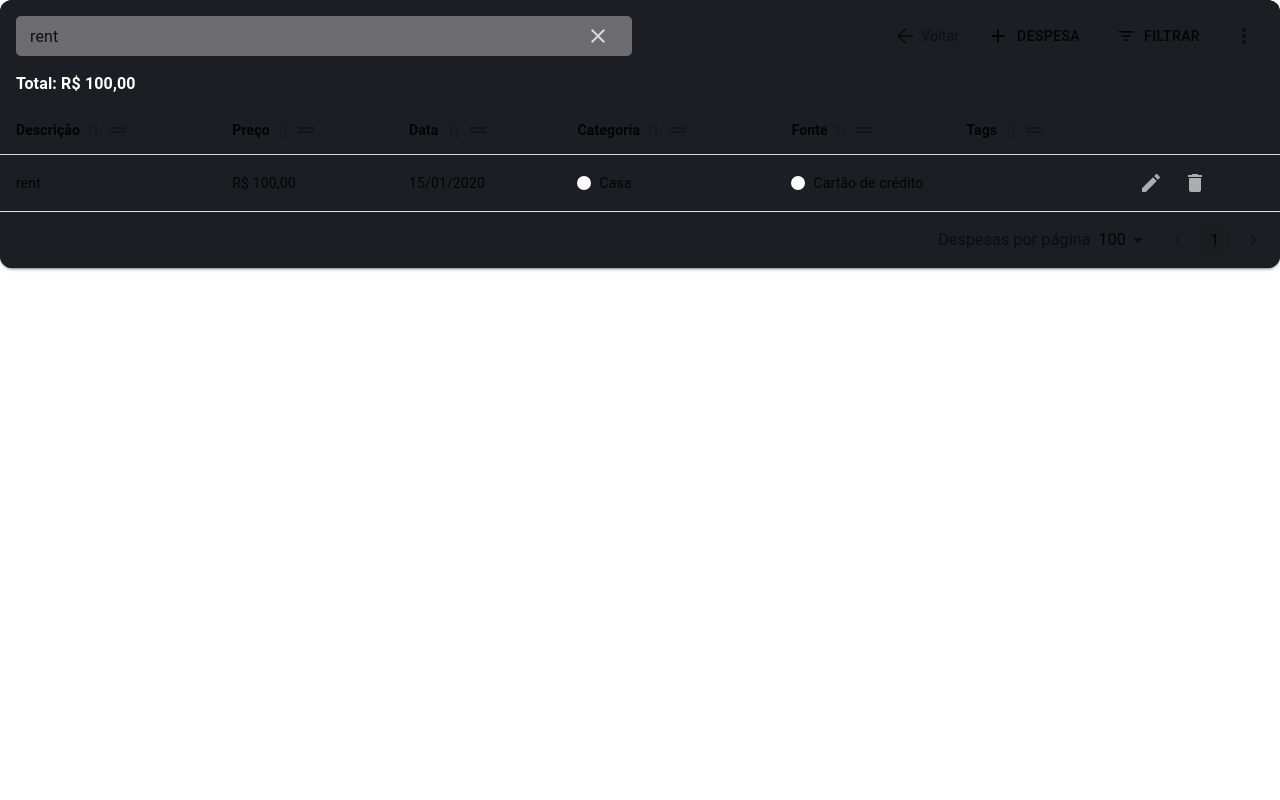
Scenario: editing through the existing drawer refetches matching rows and preserves overview cache
Check: the text "rent" is shown, box [0, 155, 216, 212]
Click the button named "Editar": point(1151, 183) [1131, 163, 1171, 203]
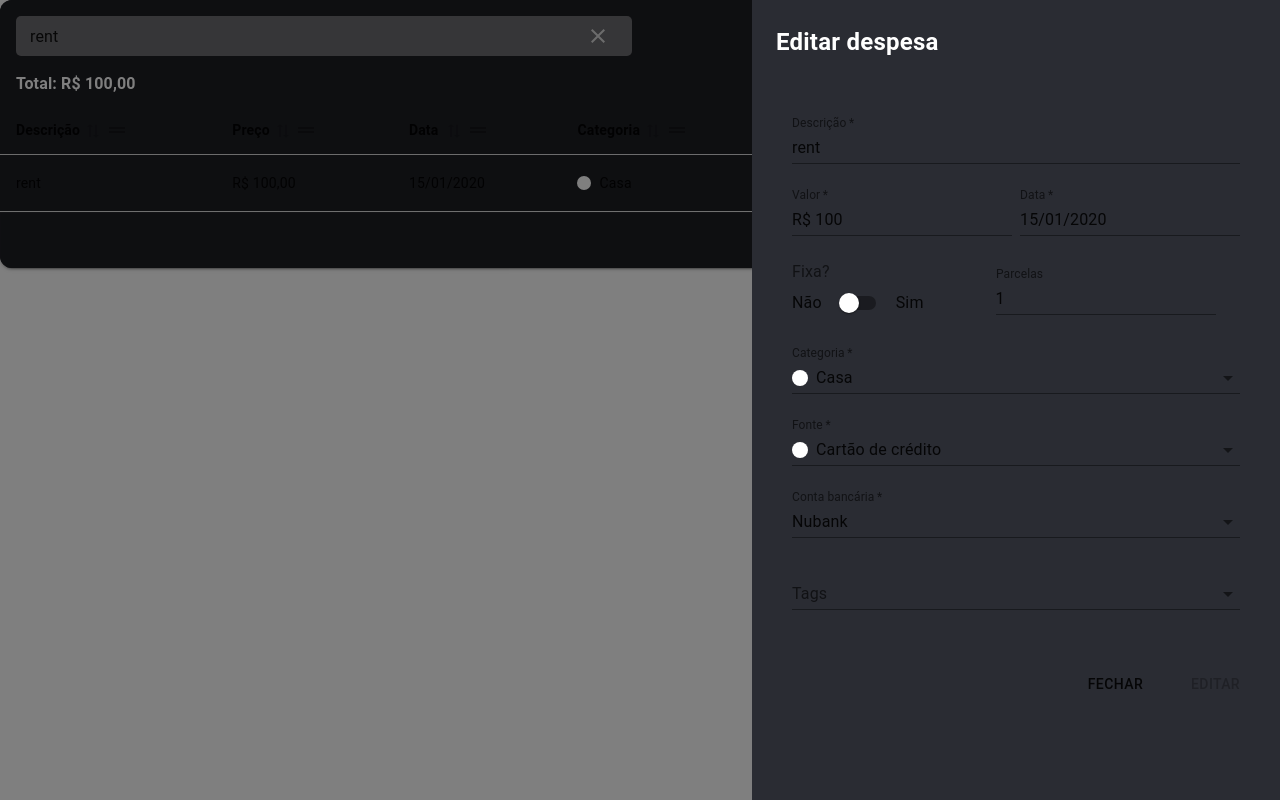
Replace the text in the field labelled "Descrição *" with "food": point(1016, 148) [792, 132, 1240, 164]
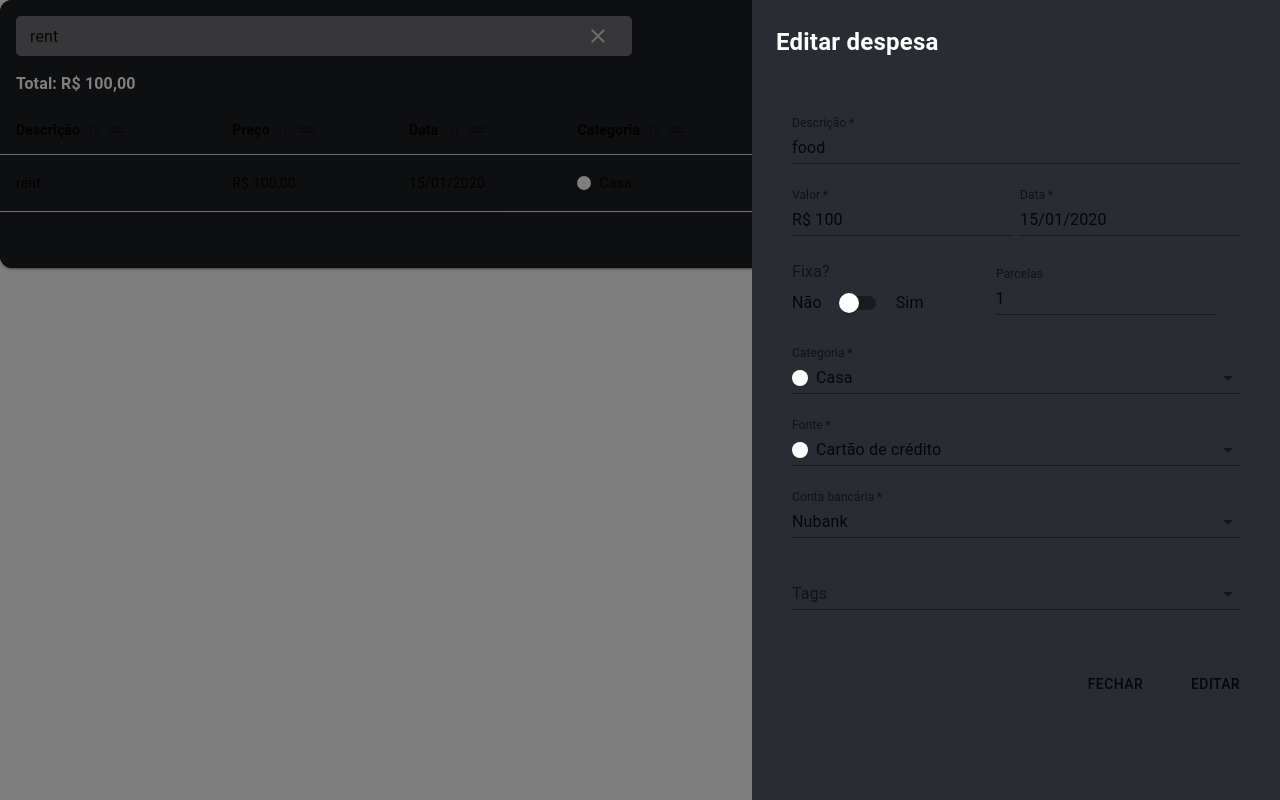
Click the button "Editar": point(1216, 684) [1175, 666, 1256, 702]
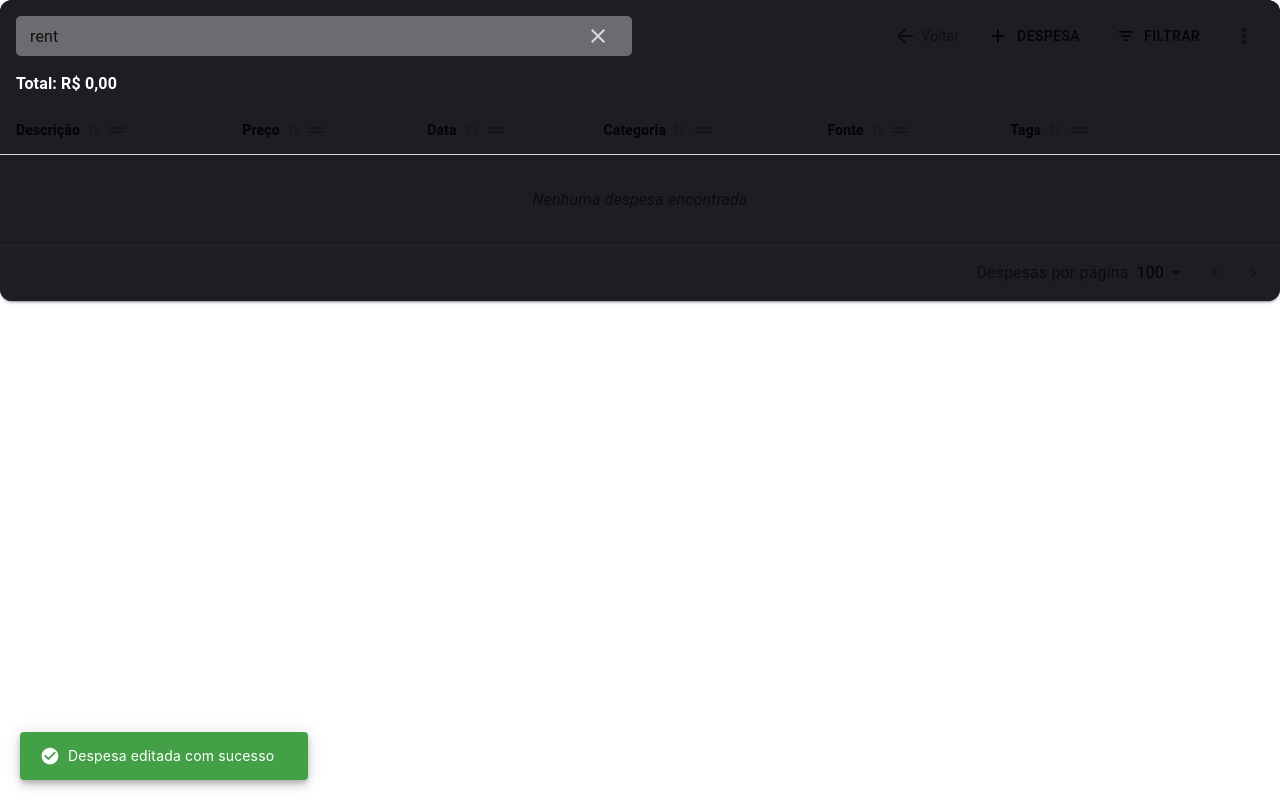
Check: the text "Total: R$ 0,00" is shown, box [16, 74, 117, 93]
